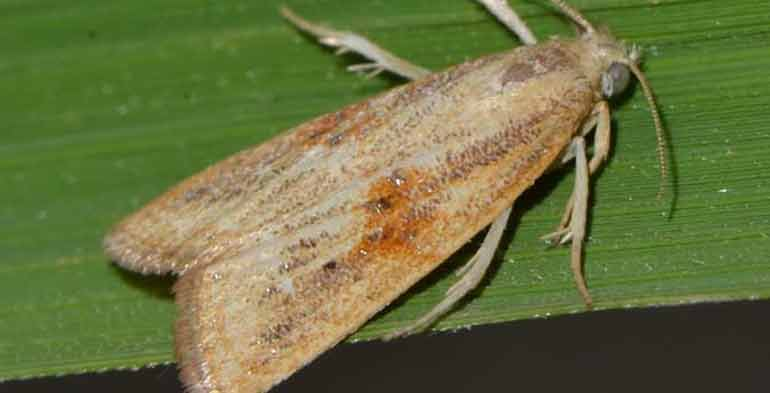Paddy_stemborer: (152, 37, 638, 348)
